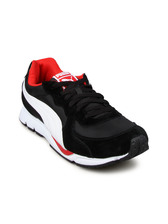shoes: (16, 56, 159, 172)
